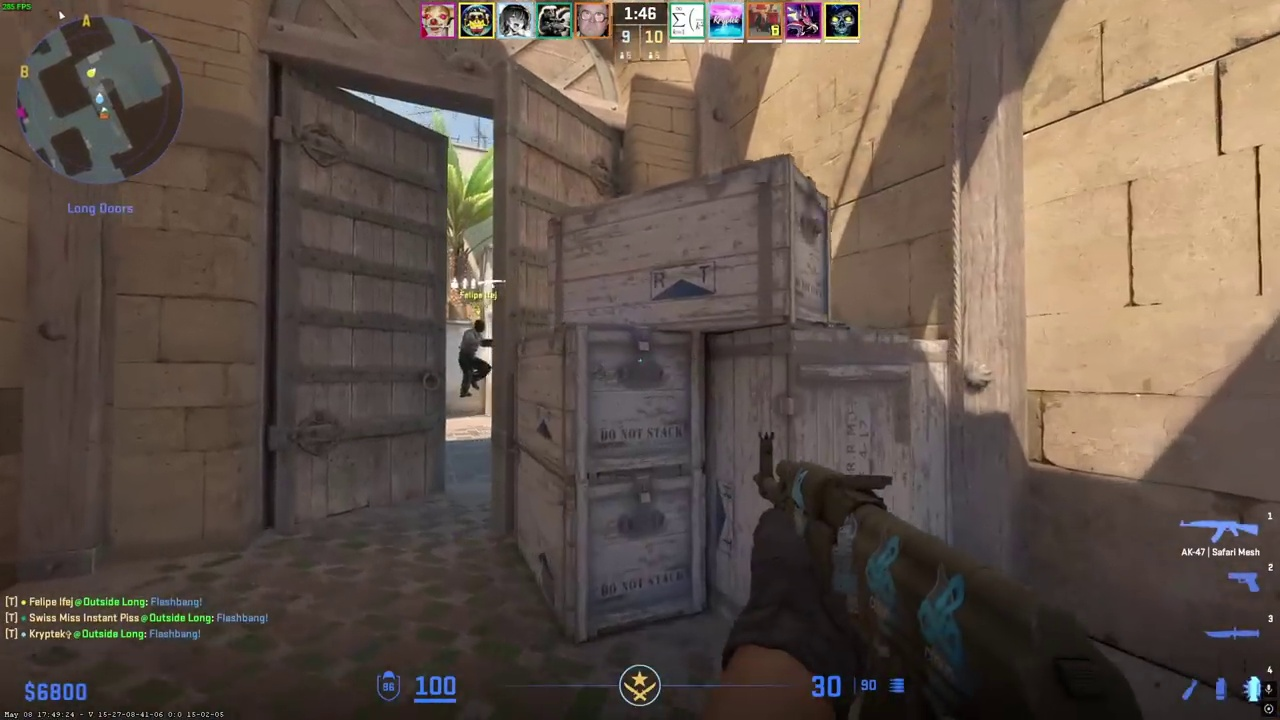Terrorist: (458, 320, 493, 397)
